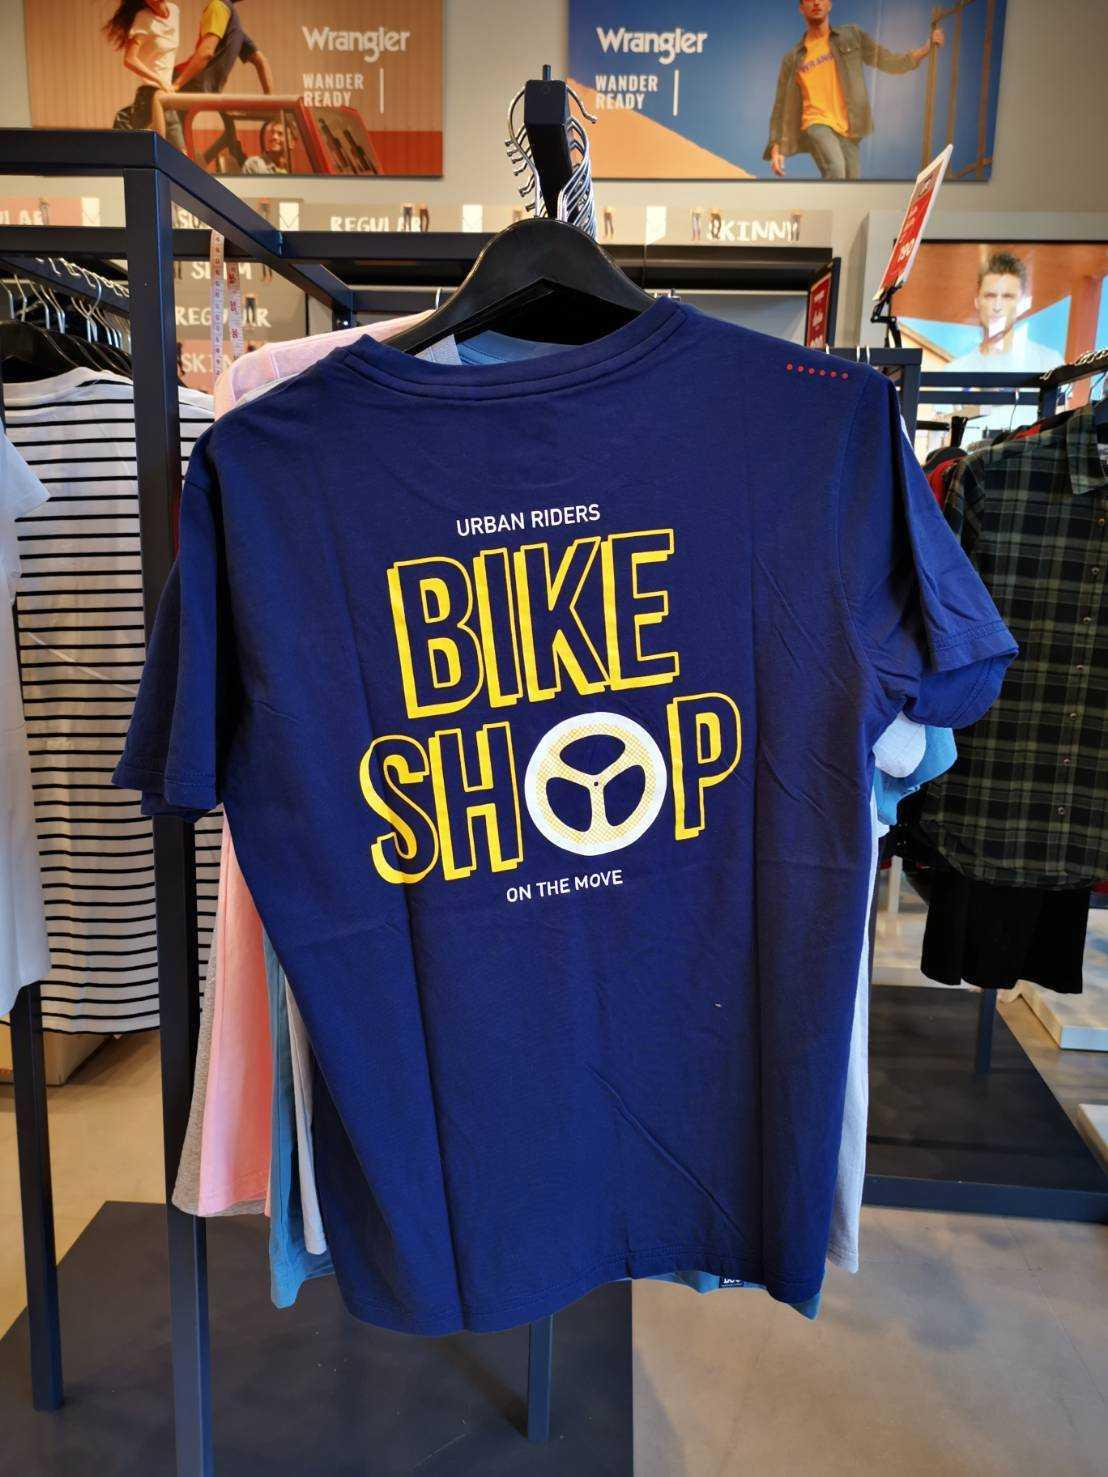Tshirt: (127, 327, 1007, 1333)
